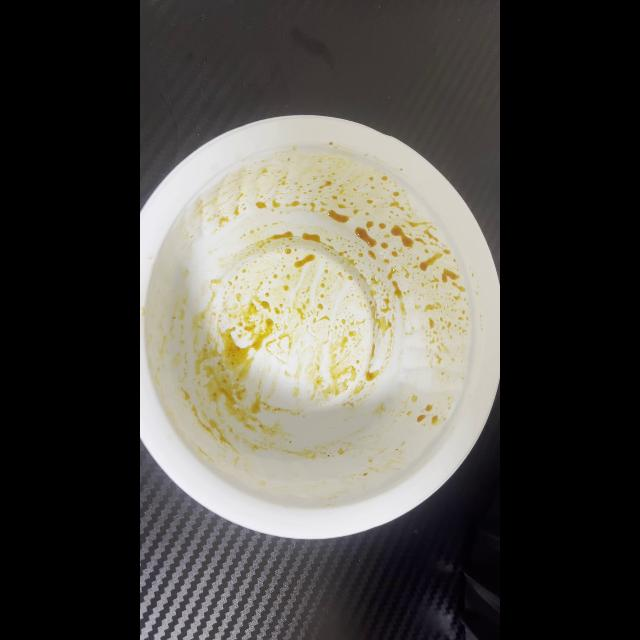dirty: (141, 116, 497, 532)
